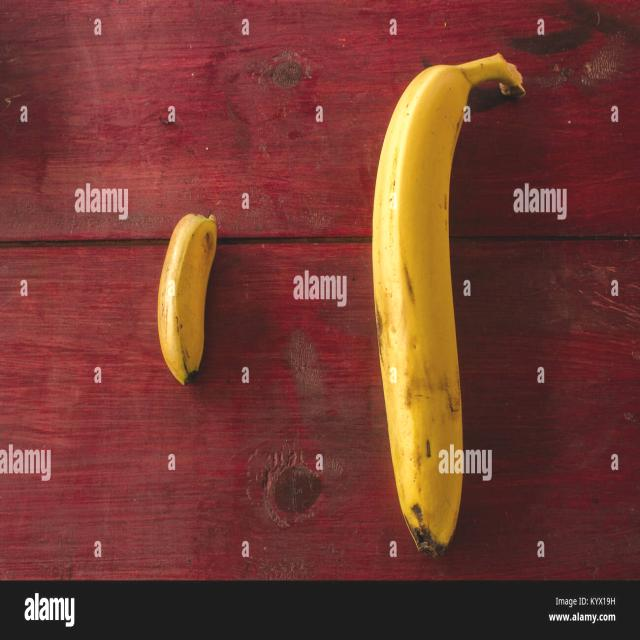banana: (362, 41, 530, 564), (154, 208, 232, 392)
